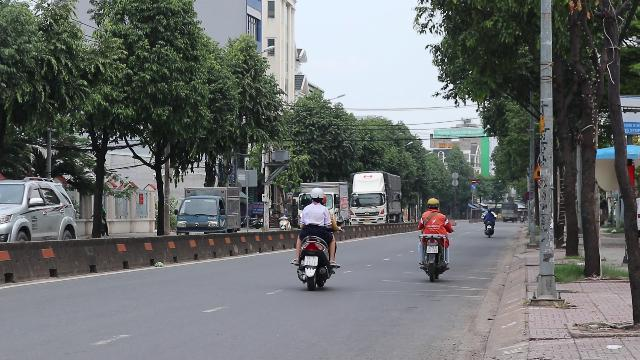helmet: (309, 187, 325, 202)
licenseplate: (304, 256, 318, 266)
motorcyclist: (290, 186, 340, 290)
